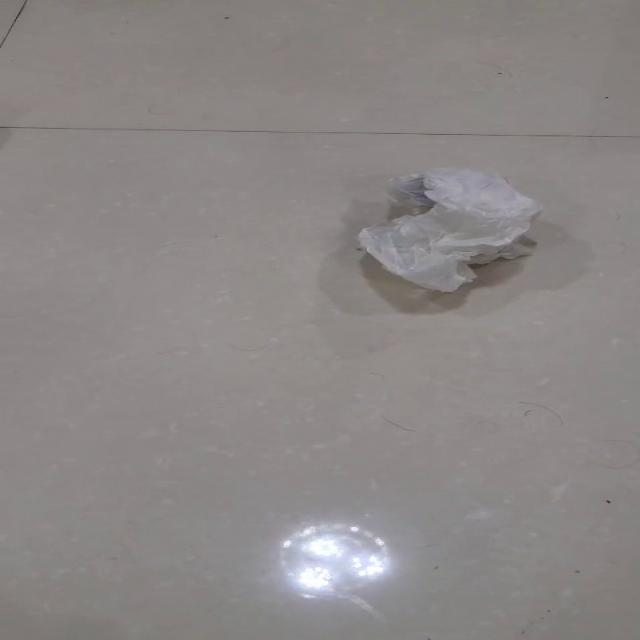plastic: (355, 166, 541, 293)
